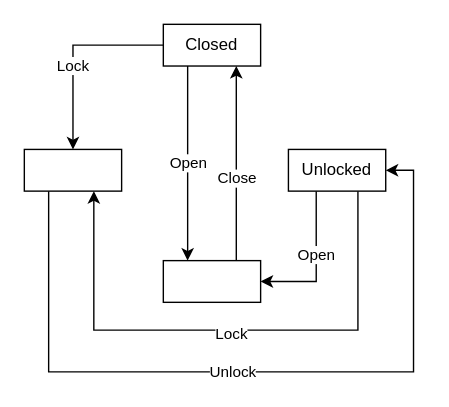
This 449x407 diagram has some shape labels left out. Each missing label, with the centre of its shape:
"Locked" goes at (72,169).
"Opened" goes at (211,280).
